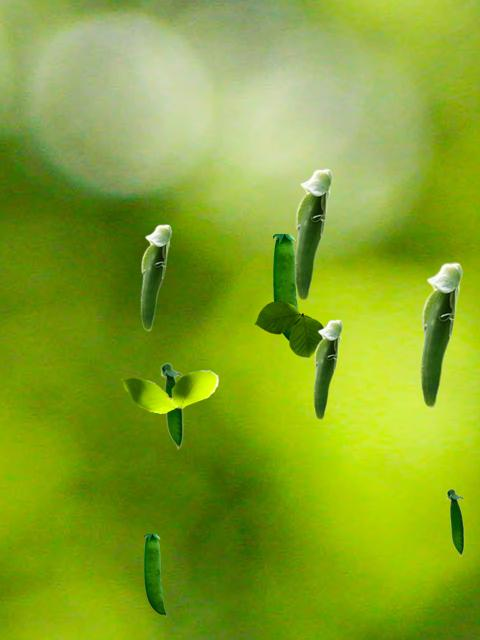pea: (420, 262, 462, 407), (294, 168, 332, 300), (140, 224, 171, 330), (313, 319, 342, 419), (273, 234, 298, 341), (160, 362, 182, 449), (144, 534, 165, 615), (446, 488, 463, 556)
